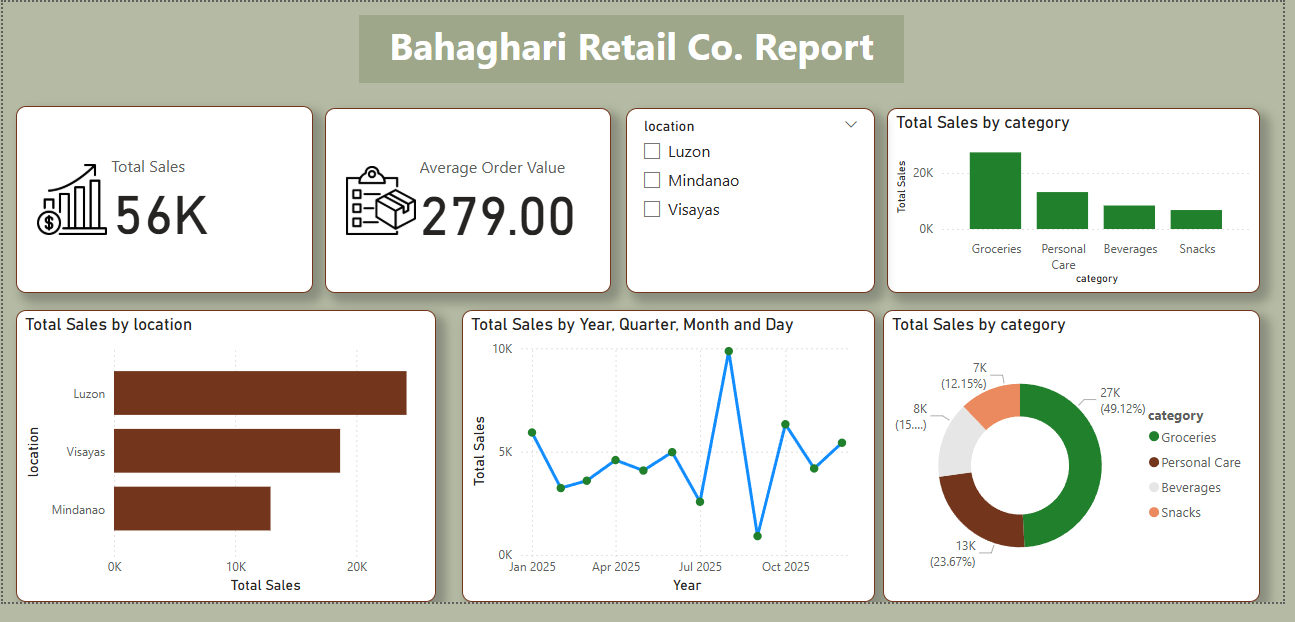

What the dashboard file says about the page in this screenshot:
{"tool":"powerbi","page":{"name":"Page 1","canvas":[1280,600],"ordinal":0},"visuals":[{"type":"cardVisual","fields":{"Data":["transactions.Total Sales"]},"box":[13.3,104.4,296.7,186.7],"z":0},{"type":"cardVisual","fields":{"Data":["transactions.Average Order Value"]},"box":[322.2,105.6,285.6,185.6],"z":1000},{"type":"clusteredBarChart","fields":{"Category":["stores.location"],"Y":["transactions.Total Sales"]},"box":[13.3,307.8,420,292.2],"z":2000},{"type":"lineChart","fields":{"Y":["transactions.Total Sales"],"Category":["transactions.Month Start.Variation.Date Hierarchy.Year","transactions.Month Start.Variation.Date Hierarchy.Quarter","transactions.Month Start.Variation.Date Hierarchy.Month","transactions.Month Start.Variation.Date Hierarchy.Day"]},"box":[458.9,307.8,413.3,292.2],"z":3000},{"type":"donutChart","fields":{"Category":["product.category"],"Y":["transactions.Total Sales"]},"box":[880,307.8,376.7,292.2],"z":4000},{"type":"clusteredColumnChart","fields":{"Y":["transactions.Total Sales"],"Category":["product.category"]},"box":[884.4,105.6,372.2,185.6],"z":5000},{"type":"slicer","fields":{"Values":["stores.location"]},"box":[623.3,105.6,248.9,185.6],"z":6000},{"type":"textbox","box":[356,13,545,68],"z":6001}]}

Visuals, with their boxes in screenshot pixels (x1, y1, x2, y2), scaled from the page's 1280x600 canvas onto the 1295x622 screenshot:
cardVisual - transactions.Total Sales: rect(13, 108, 314, 302)
cardVisual - transactions.Average Order Value: rect(326, 109, 615, 302)
clusteredBarChart - stores.location x transactions.Total Sales: rect(13, 319, 438, 621)
lineChart - transactions.Total Sales x transactions.Month Start.Variation.Date Hierarchy.Year: rect(464, 319, 882, 621)
donutChart - product.category x transactions.Total Sales: rect(890, 319, 1271, 621)
clusteredColumnChart - transactions.Total Sales x product.category: rect(895, 109, 1271, 302)
slicer - stores.location: rect(631, 109, 882, 302)
textbox: rect(360, 13, 912, 84)
